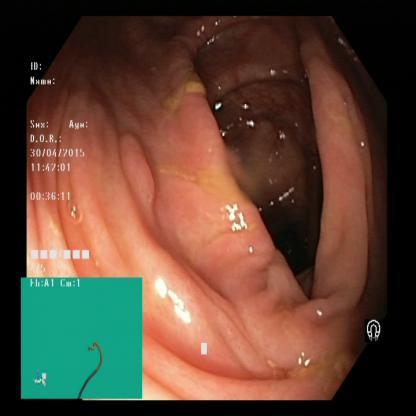Labels: (20, 277, 142, 404), (31, 57, 103, 272), (360, 306, 390, 350)
Polyps: (116, 129, 169, 229)
